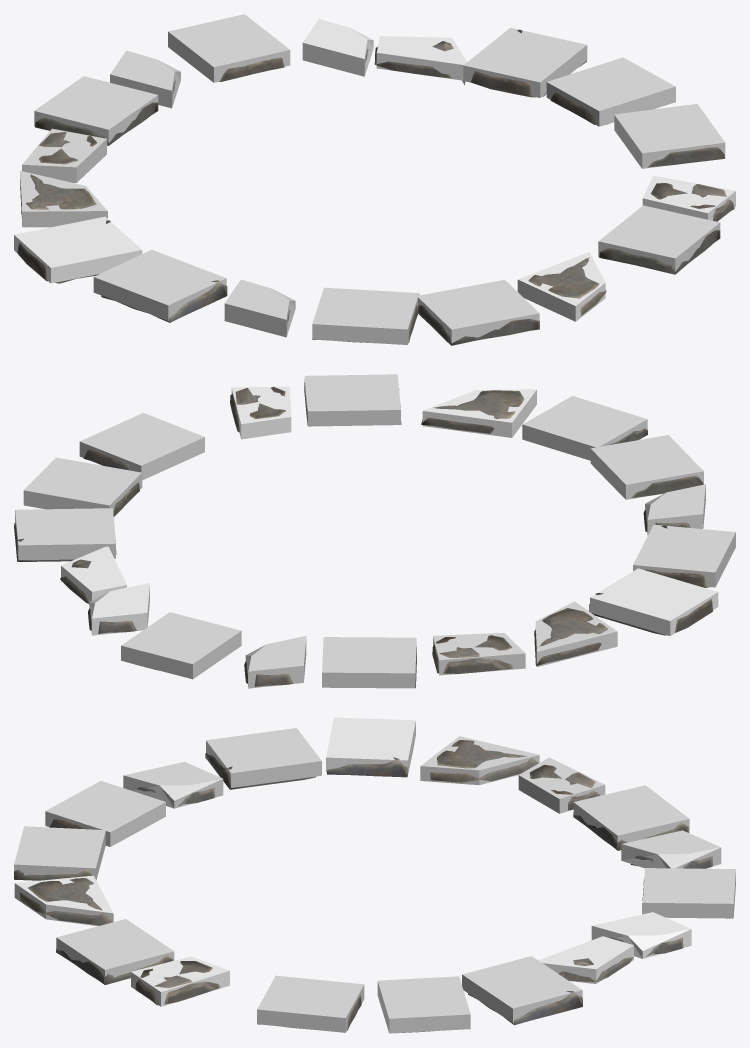
File: Floor_D.fbx
The picture shows the model from 3 angles, top to bottom: view 1: azimuth 30°, elevation 25°; view 2: azimuth 150°, elevation 25°; view 3: azimuth 270°, elevation 25°; orthographic projection. The views are drawn at different scales.
Parts seen in each view (by area): view 1: Cube_5, Cube, Cube_4, Cube_3, Cube_8, Cube_6, Cube_9, Cube_2, Cube_1, Cube_7, Rock_A25_PZ, Rock_A25_PZ_1 (+18 smaller); view 2: Cube_8, Cube, Cube_7, Cube_1, Cube_6, Cube_9, Cube_2, Cube_3, Cube_4, Cube_5, Rock_A26_PZ, Rock_A25_PZ_2 (+12 smaller); view 3: Cube_5, Cube_9, Cube_3, Cube_8, Cube_6, Cube_4, Cube_7, Cube_1, Cube_2, Cube, Rock_A25_PZ_1, Rock_A25_PZ_2 (+16 smaller).
Part boxes in pixels (box(x1,y1,x2,y2)): Cube_5: box(93, 249, 226, 320); Cube: box(14, 216, 142, 283); Cube_4: box(312, 287, 419, 344); Cube_3: box(546, 57, 675, 126); Cube_8: box(168, 14, 290, 82); Cube_6: box(463, 28, 587, 97); Cube_9: box(614, 104, 725, 168); Cube_2: box(417, 279, 539, 343); Cube_1: box(34, 76, 158, 143); Cube_7: box(598, 205, 720, 271); Rock_A25_PZ: box(302, 19, 373, 76); Rock_A25_PZ_1: box(224, 279, 295, 337); Cube_8: box(121, 612, 241, 679); Cube: box(590, 568, 718, 635); Cube_7: box(304, 374, 400, 426); Cube_1: box(322, 637, 416, 688); Cube_6: box(15, 508, 115, 560); Cube_9: box(79, 413, 204, 480); Cube_2: box(522, 396, 647, 460); Cube_3: box(23, 457, 142, 511); Cube_4: box(590, 435, 703, 499); Cube_5: box(633, 524, 735, 587); Rock_A26_PZ: box(422, 389, 536, 437); Rock_A25_PZ_2: box(245, 636, 306, 688); Cube_5: box(206, 728, 321, 787); Cube_9: box(257, 975, 364, 1032); Cube_3: box(377, 976, 470, 1033); Cube_8: box(642, 868, 735, 918); Cube_6: box(462, 956, 582, 1023); Cube_4: box(45, 781, 165, 846); Cube_7: box(56, 919, 174, 977); Cube_1: box(573, 785, 689, 842); Cube_2: box(14, 826, 105, 880); Cube: box(326, 717, 415, 774); Rock_A25_PZ_1: box(123, 761, 223, 808); Rock_A25_PZ_2: box(621, 830, 721, 868).
Bounding box in the file's own units: 0.6024 × 0.0231 × 0.6089.
2 materials, 1 textured.
